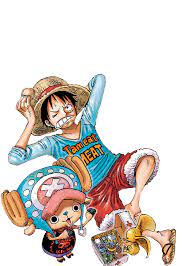chopper: (1, 157, 93, 234)
luffy: (22, 75, 93, 137)
